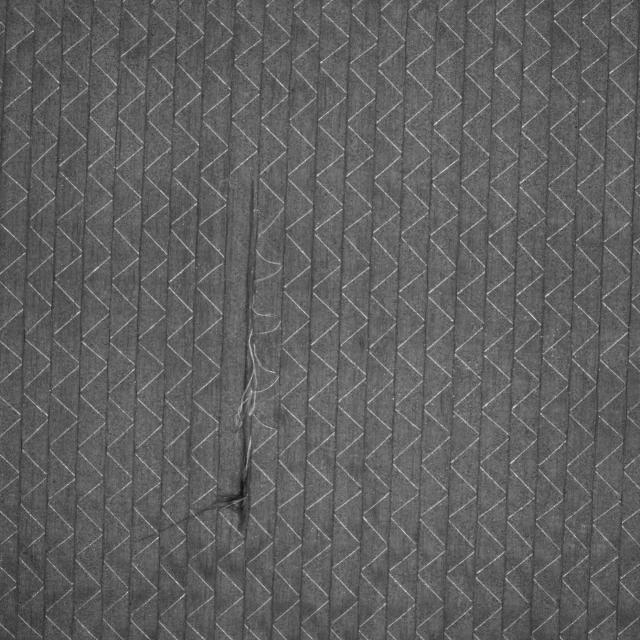carbon-fibre-defect: (210, 175, 267, 537), (255, 251, 307, 513)
